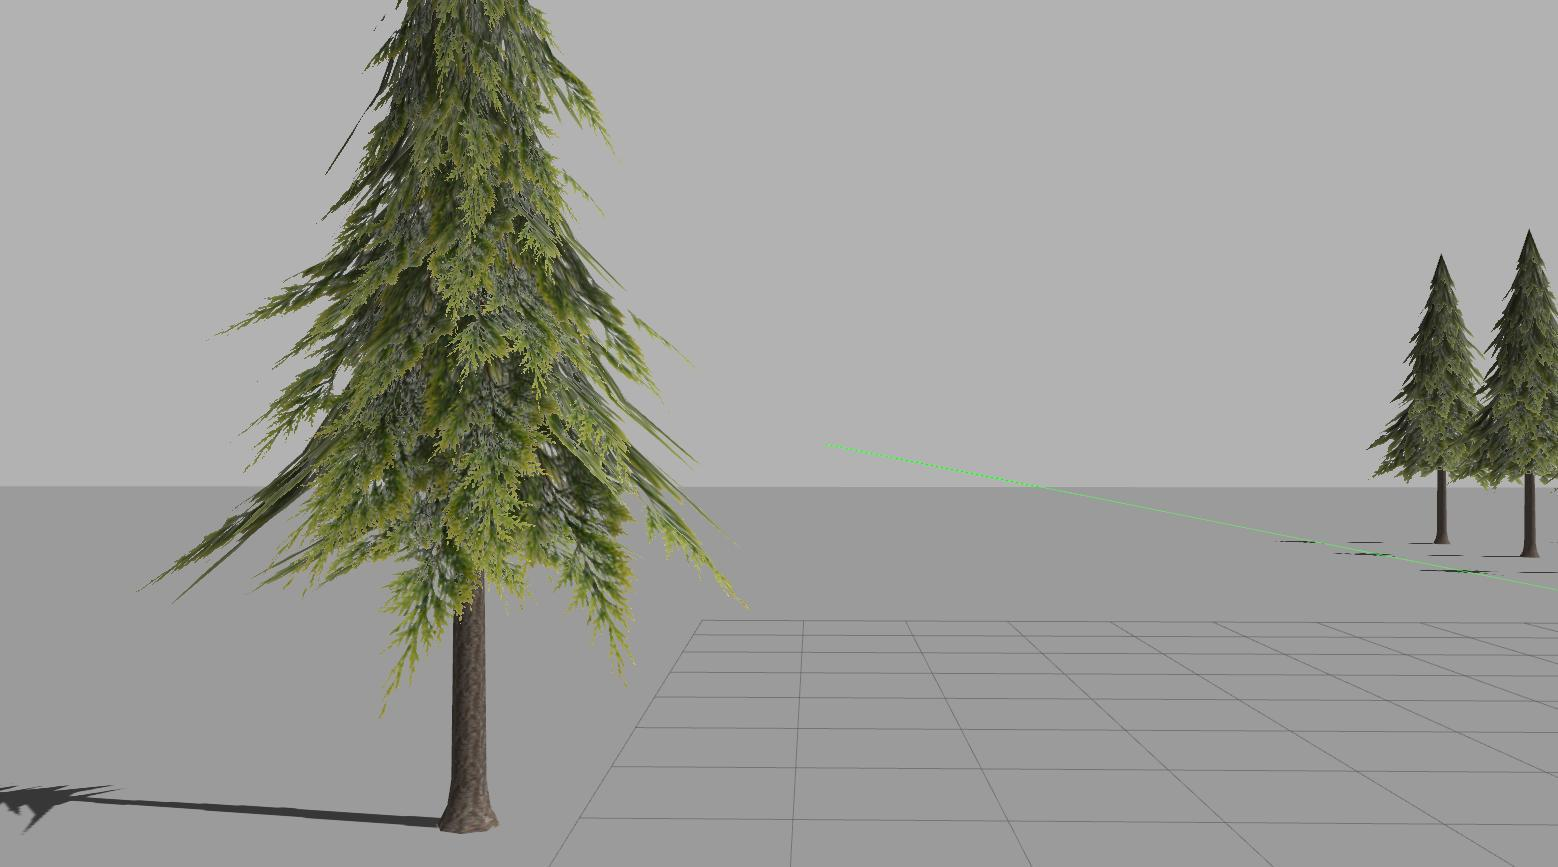tree_gazebo: (158, 0, 733, 834), (1369, 255, 1479, 545), (1466, 232, 1558, 555)
